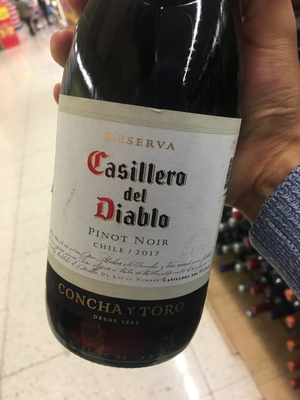casillero del diablo pinot noir: (38, 27, 252, 366)
